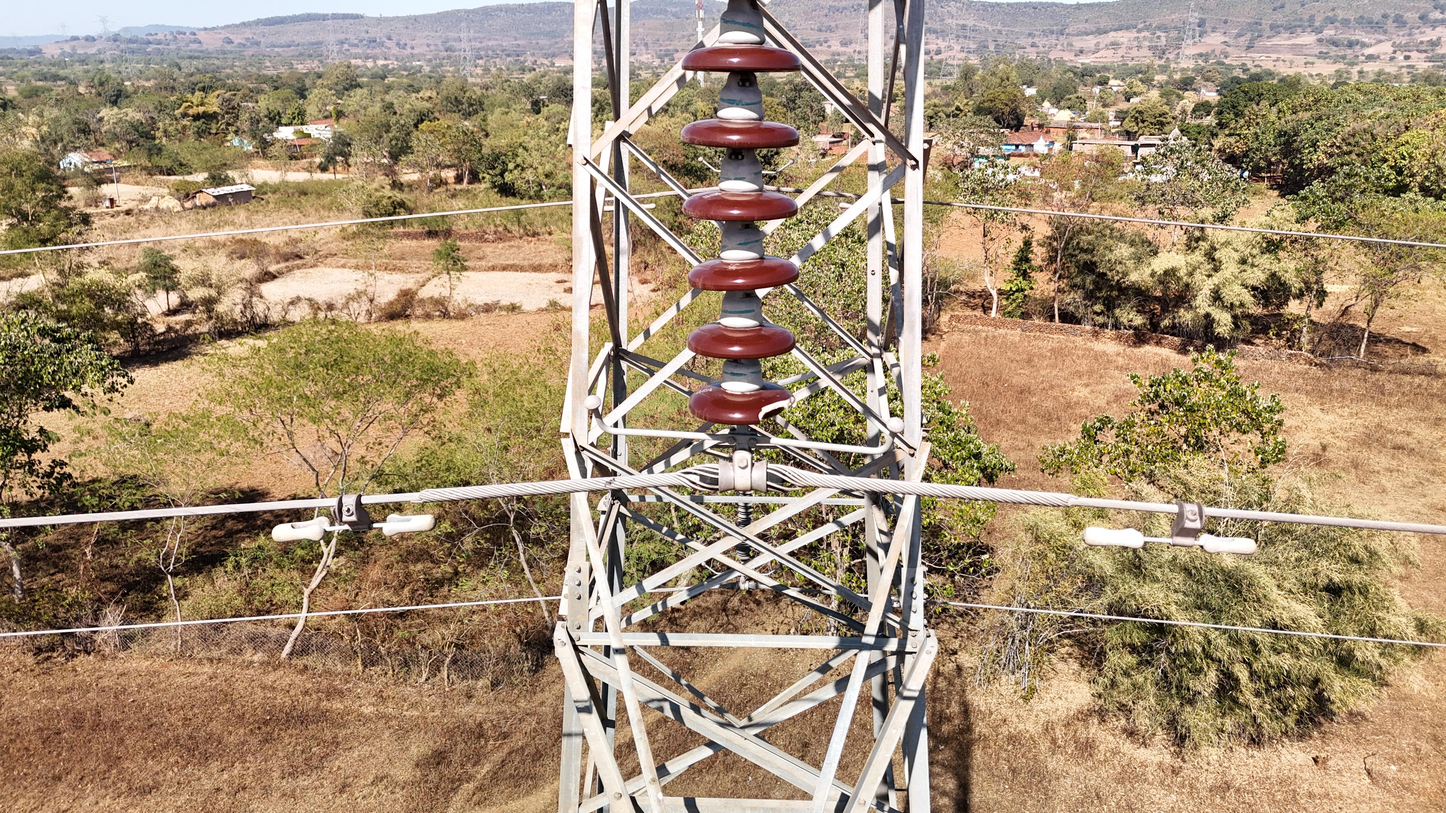broken_insulator: (686, 382, 796, 427)
